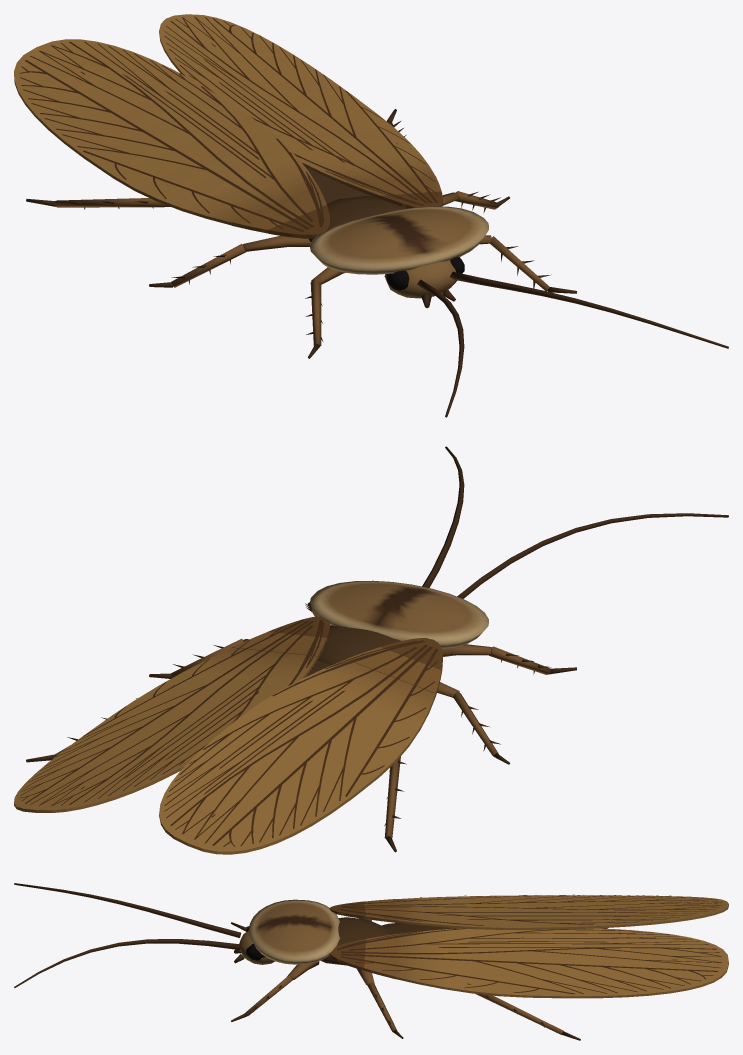
The model's file is Progonoblattina.fbx.
3 views of the same model, one above another, from view 1: azimuth 30°, elevation 25°; view 2: azimuth 150°, elevation 25°; view 3: azimuth 270°, elevation 25° (orthographic). The views are drawn at different scales.
Visible parts, largest first — view 1: Progonoblattina; view 2: Progonoblattina; view 3: Progonoblattina.
Part boxes in pixels (x1,y1,x2,y2): Progonoblattina: [14, 14, 728, 417]; Progonoblattina: [14, 446, 728, 854]; Progonoblattina: [14, 883, 728, 1040].
Size of the model in its own units: 0.8044 by 0.1509 by 1.79.
